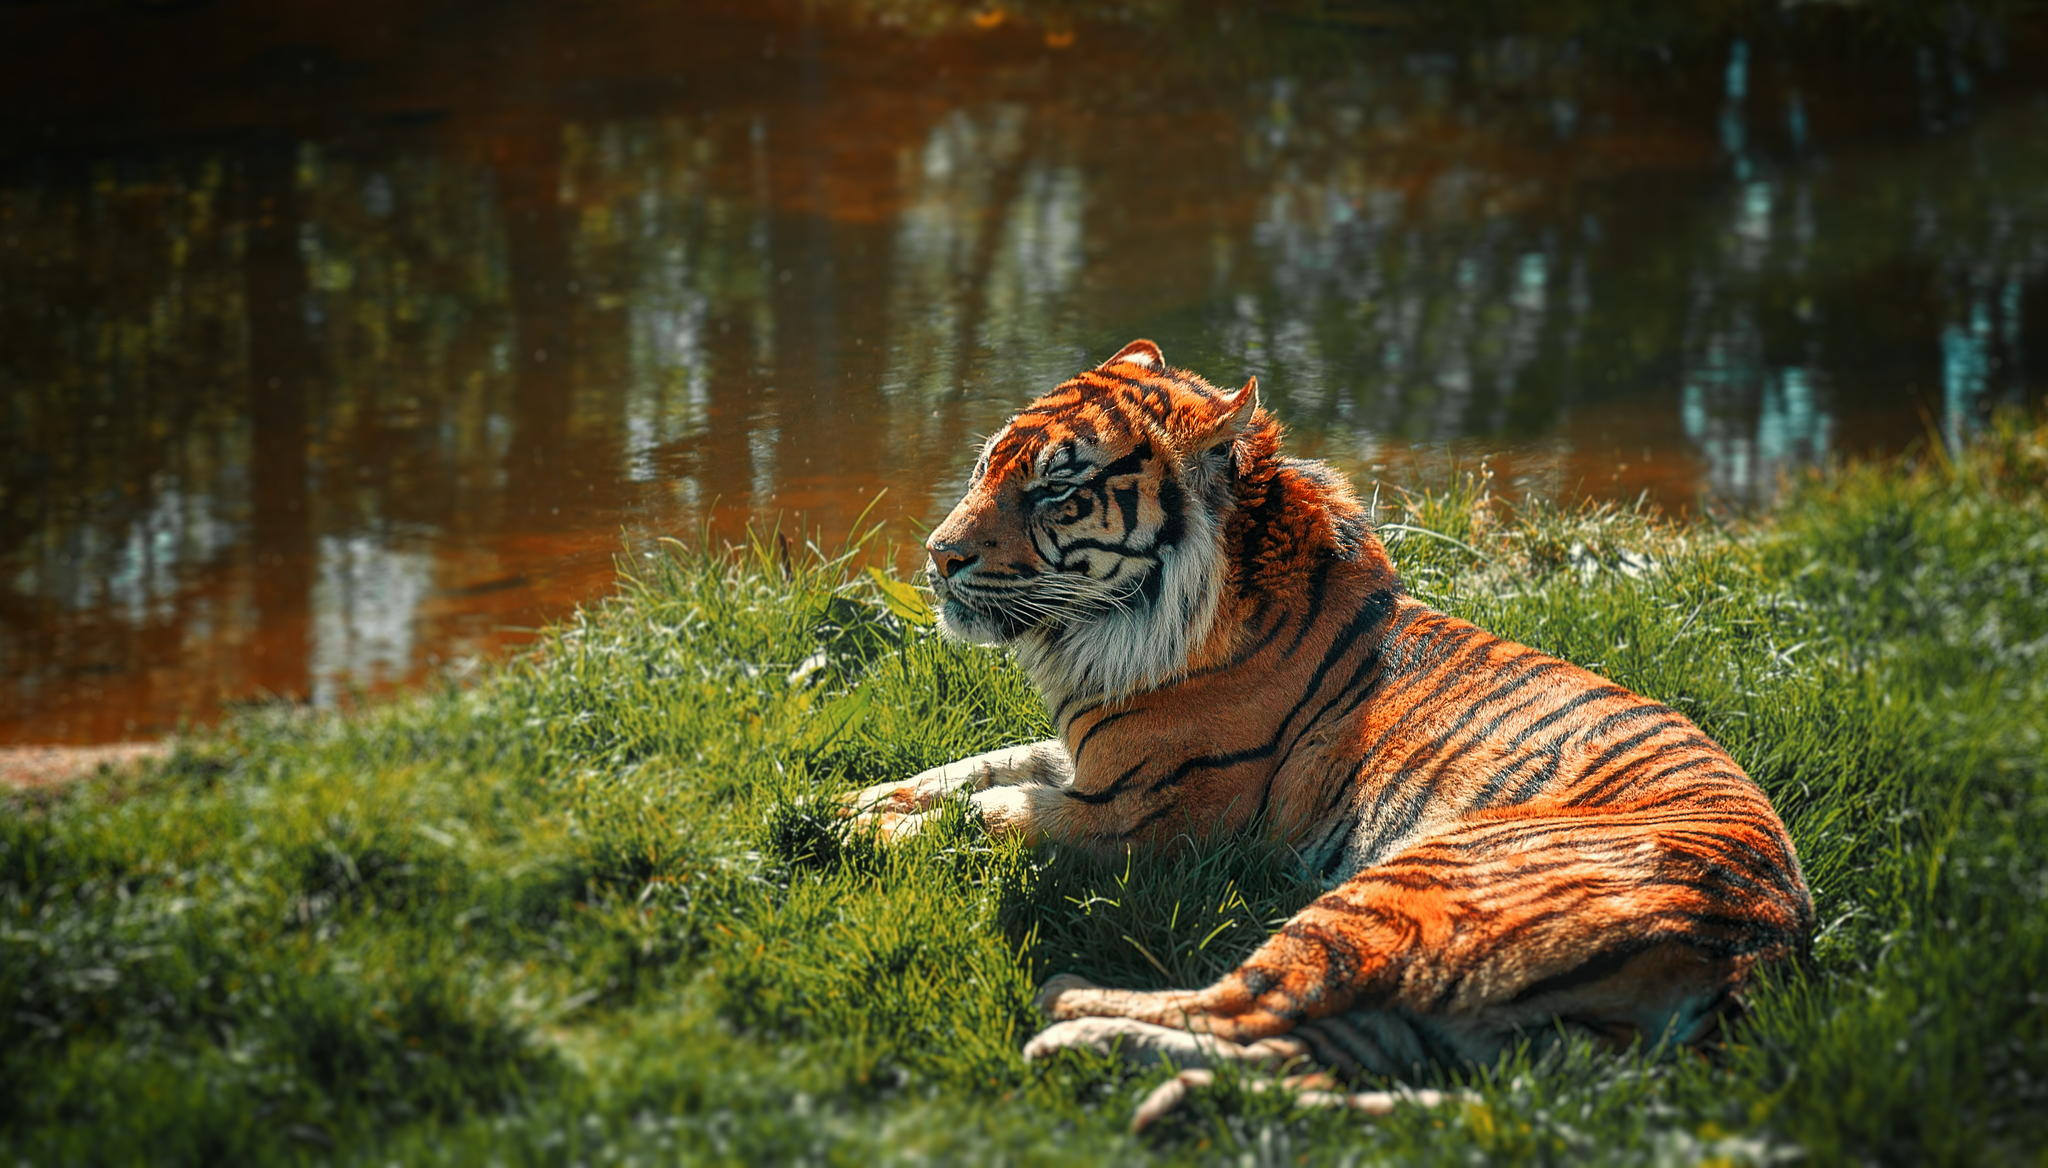tiger: (834, 325, 1819, 1088)
